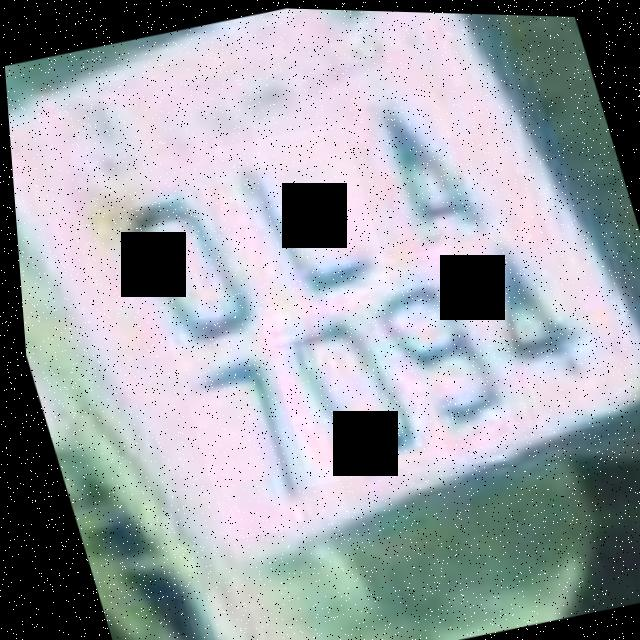0: (250, 276, 444, 488)
4: (434, 195, 610, 403)
7: (160, 307, 344, 542)
9: (343, 235, 518, 438)
J: (203, 116, 393, 327)
O: (85, 157, 278, 369)
